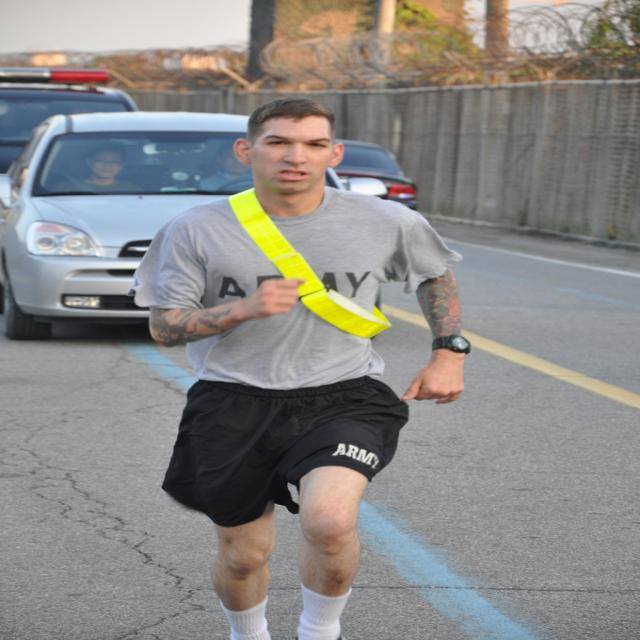car: (0, 109, 258, 347)
